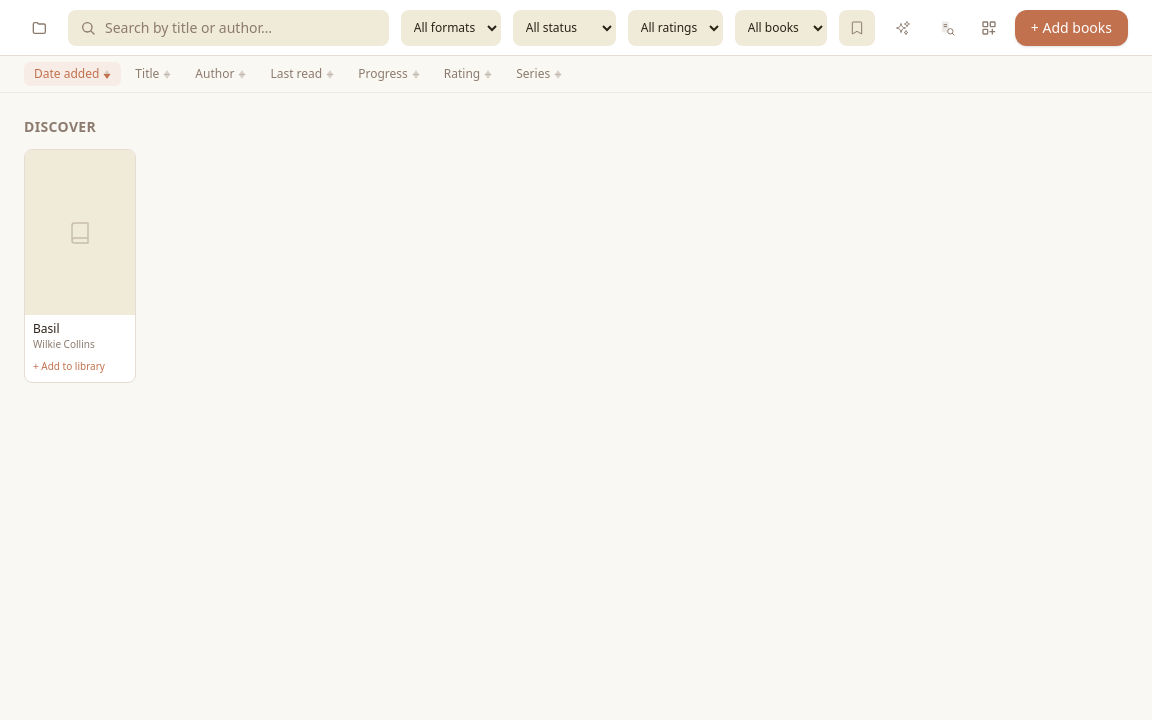
Scenario: Library — Discover section › disables the add button and shows 'Adding…' while a download is in flight
Click the button "+ Add to library". click: (69, 366)
box: [33,359,105,374]
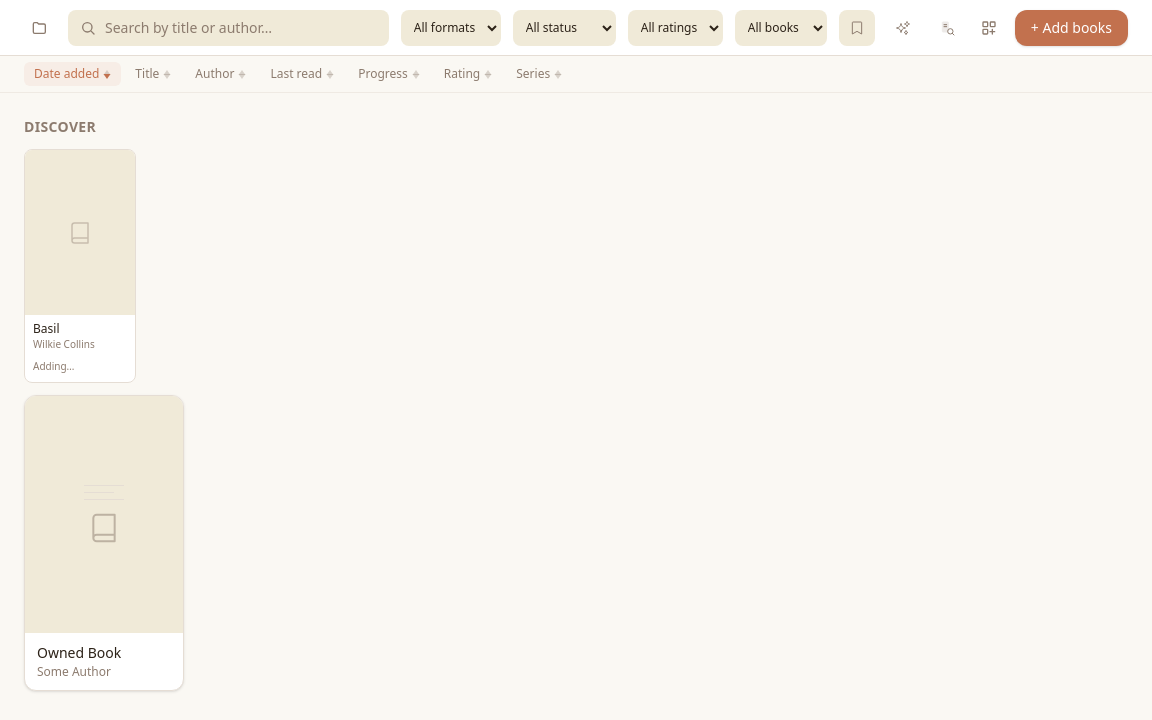
Now the button "Adding…" is disabled, box [33,359,74,374]
